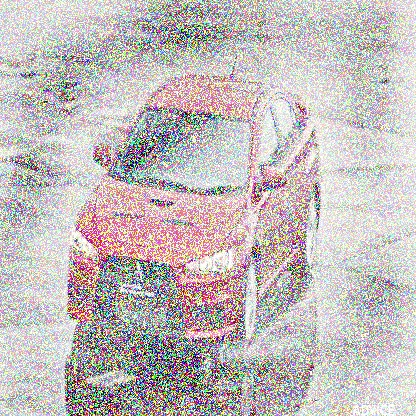Vehicle: (66, 53, 328, 355)
